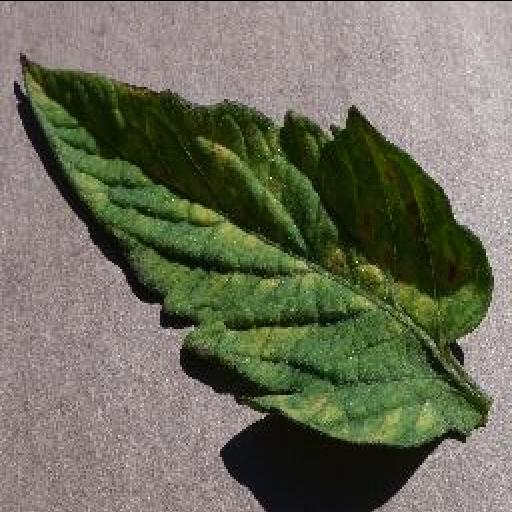disease_tomato: (18, 54, 492, 444)
